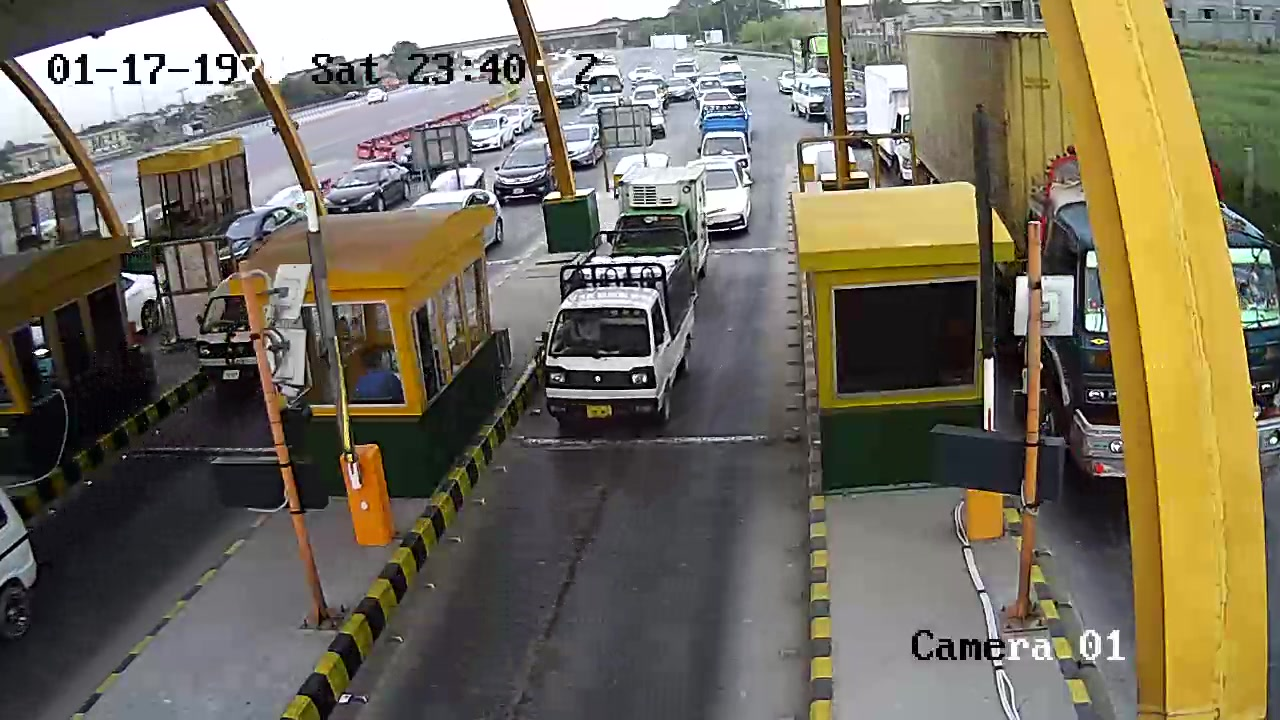F1: (546, 220, 700, 435)
